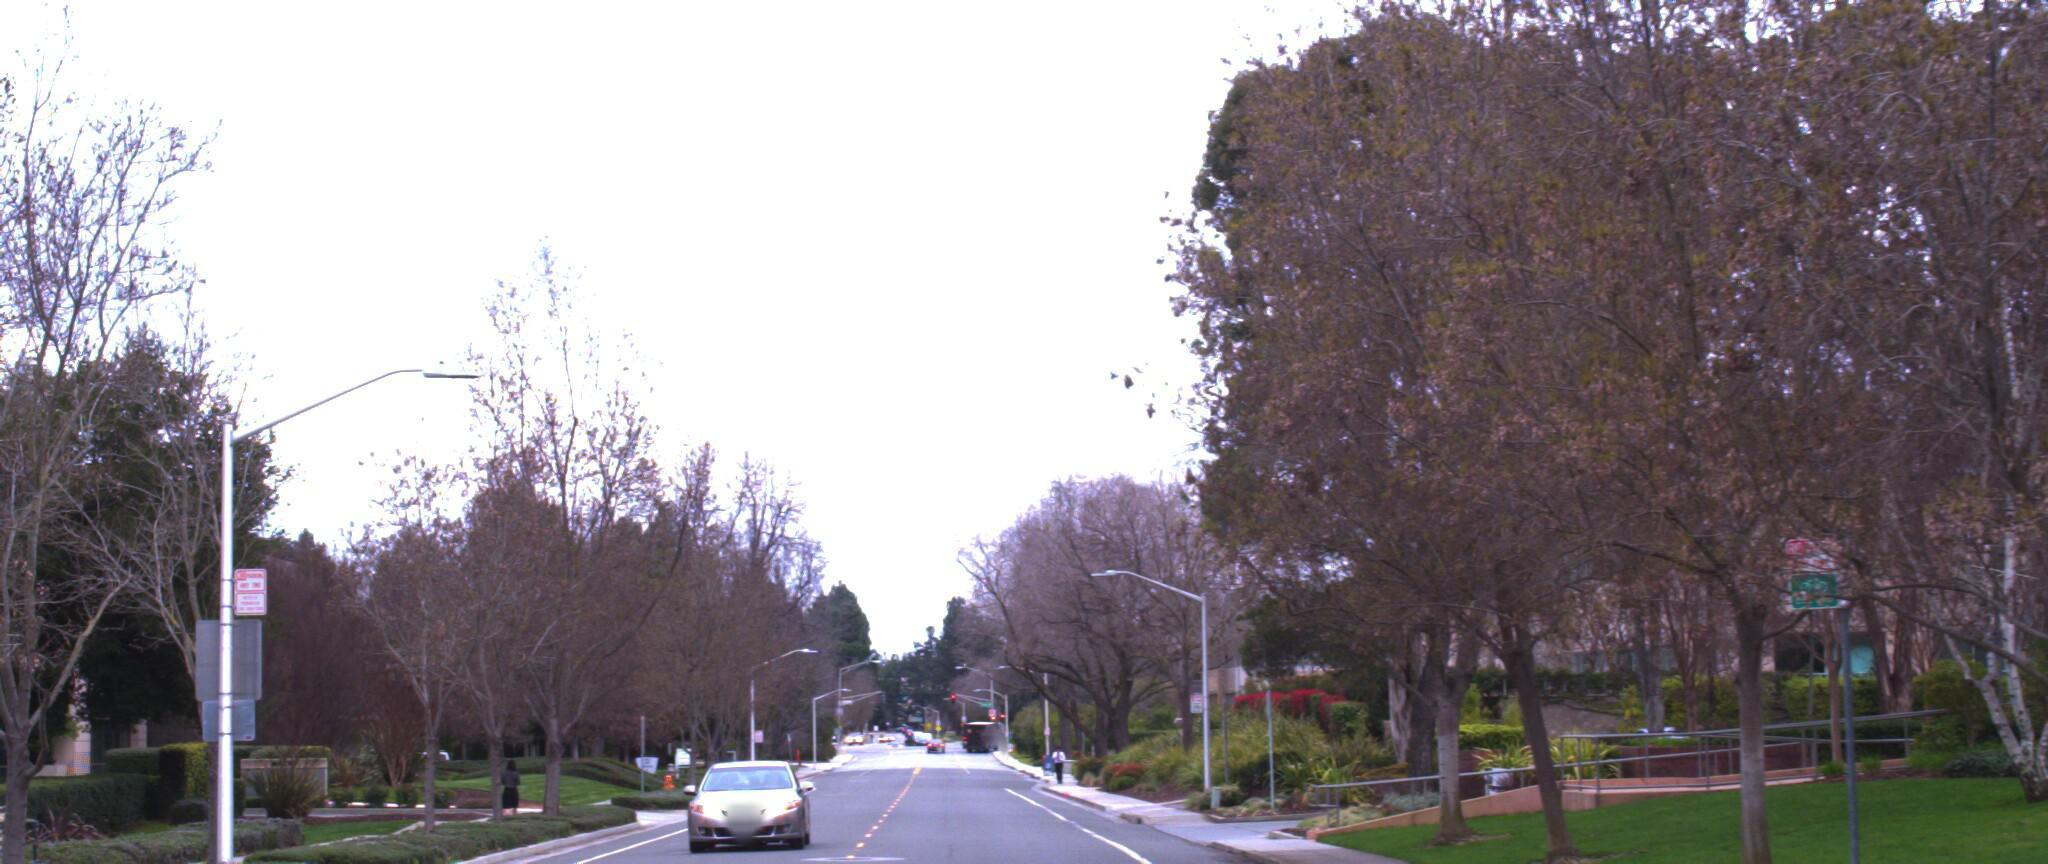car: (687, 773, 822, 864)
